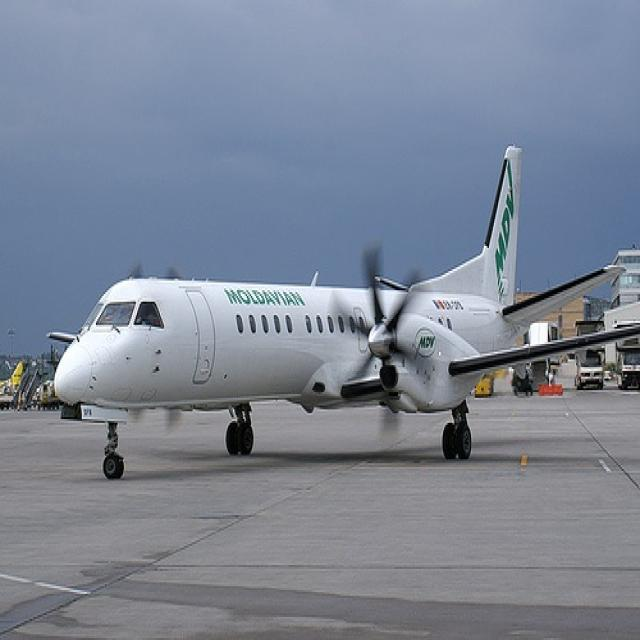aeroplane: (45, 144, 637, 479)
